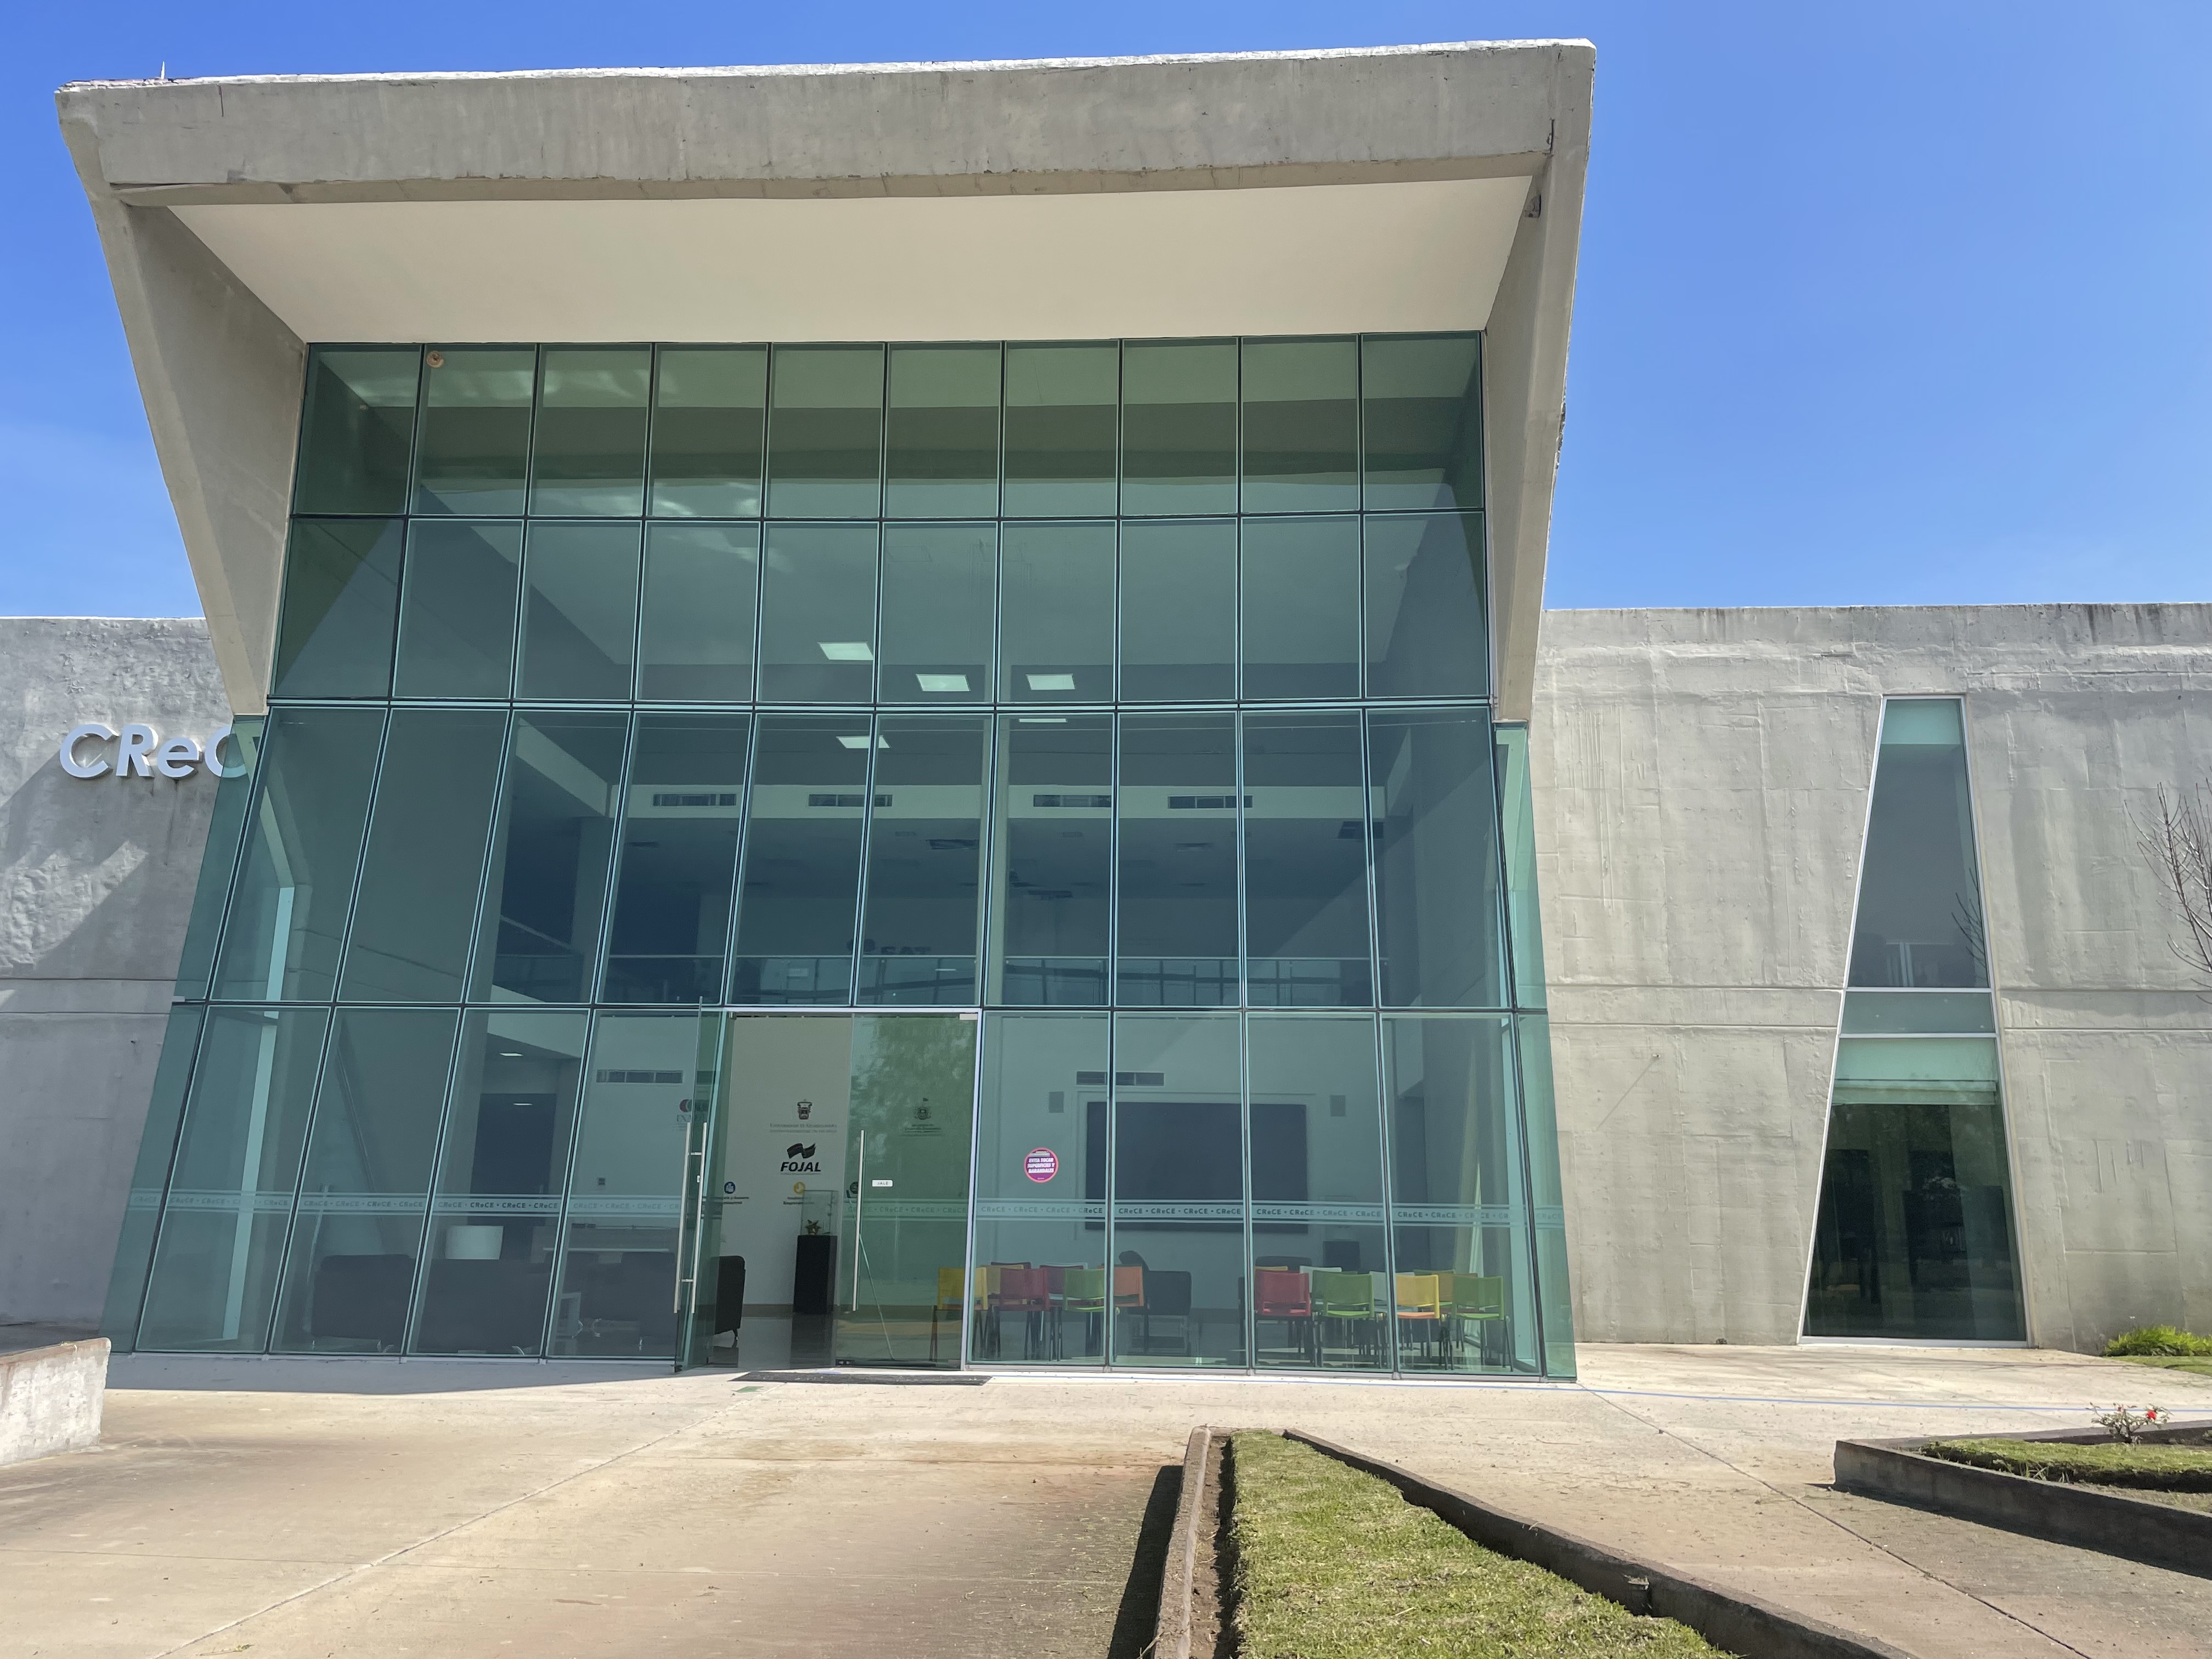crece: (0, 9, 2177, 1436)
